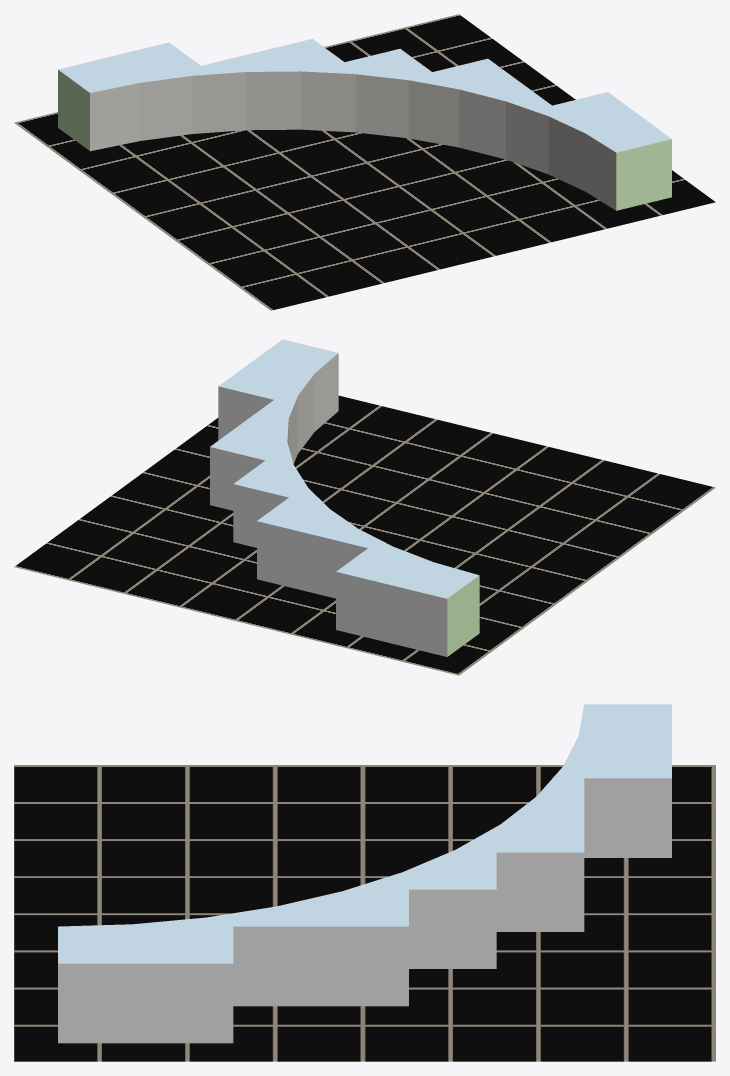
Rendered from Wall_Curve_Inner_7x7_Mid.glb.
3 views of the same model, one above another, from view 1: azimuth 30°, elevation 25°; view 2: azimuth 150°, elevation 25°; view 3: azimuth 270°, elevation 25° (orthographic). The views are drawn at different scales.
Parts seen in each view (by area): view 1: Floor, Wall_Curve_Inner_7x7_Mid; view 2: Floor, Wall_Curve_Inner_7x7_Mid; view 3: Floor, Wall_Curve_Inner_7x7_Mid.
Part boxes in pixels (x1,y1,x2,y2): Floor: (14,14,715,310); Wall_Curve_Inner_7x7_Mid: (58,38,671,210); Floor: (14,395,715,675); Wall_Curve_Inner_7x7_Mid: (210,339,479,656); Floor: (14,765,715,1061); Wall_Curve_Inner_7x7_Mid: (58,704,671,1043).
Bounding box in the file's own units: 800 × 100 × 800.
5 materials, 1 textured.
